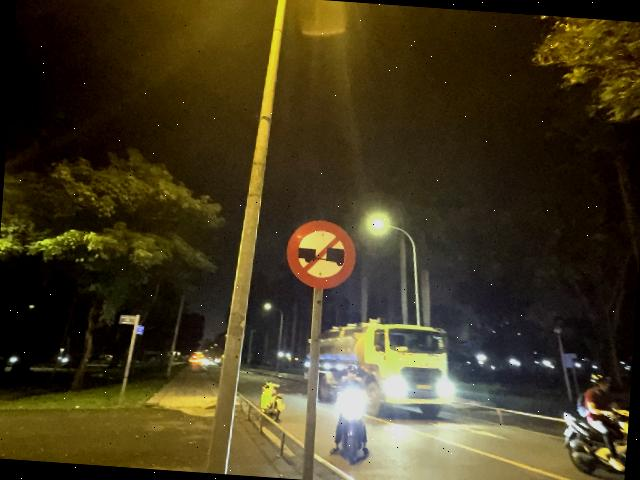cam-xe-somi-romooc: (283, 216, 358, 292)
